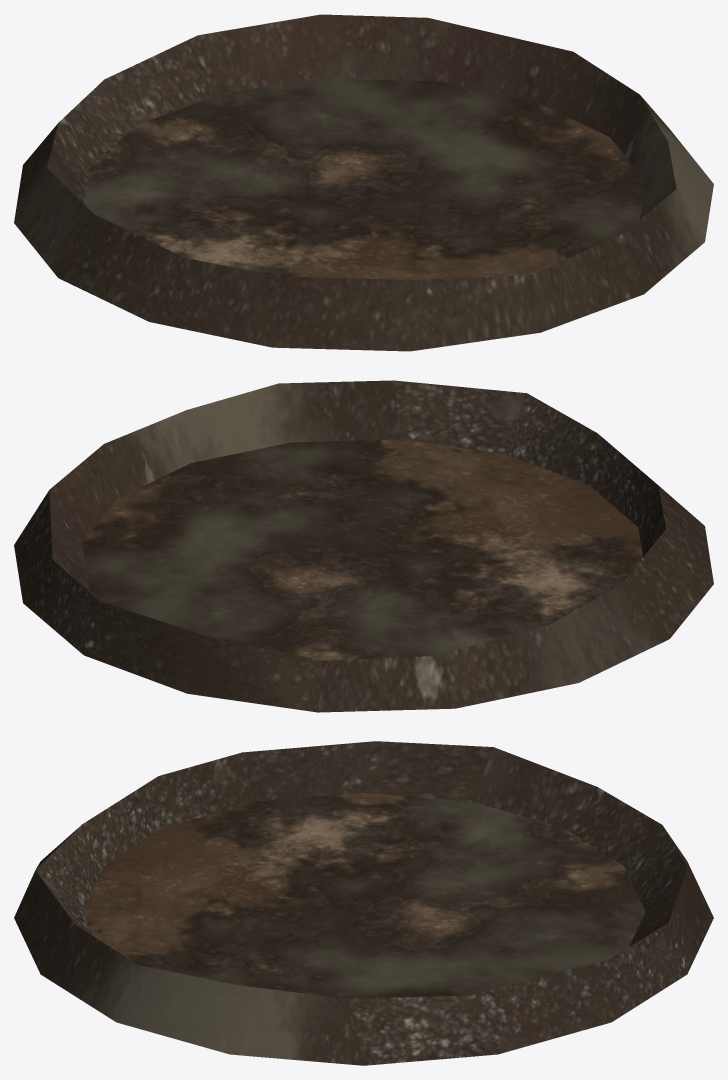
File: RicePaddy_SegmentEmpty.glb
The picture shows the model from 3 angles, top to bottom: view 1: azimuth 30°, elevation 25°; view 2: azimuth 150°, elevation 25°; view 3: azimuth 270°, elevation 25°; orthographic projection.
Visible parts, largest first — view 1: Circle; view 2: Circle; view 3: Circle.
Part boxes in pixels (<box>): Circle: <box>14,14,713,351</box>; Circle: <box>14,380,713,712</box>; Circle: <box>14,741,713,1065</box>.
Size of the model in its own units: 2 by 0.1558 by 2.
Materials: 2 (2 with a texture image).
